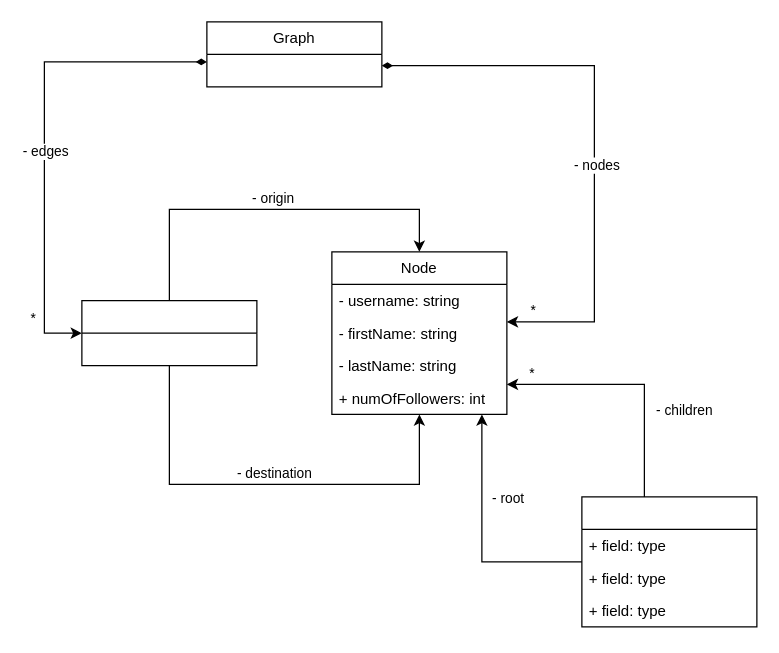
The diagram is 779 pixels wide and 653 high, and some of its shapes have lost their labels. The box of each missing label's shape, as (x1, y1, x2, y2) in pixels:
Edge: (81, 299, 257, 366)
Tree: (581, 496, 757, 627)
